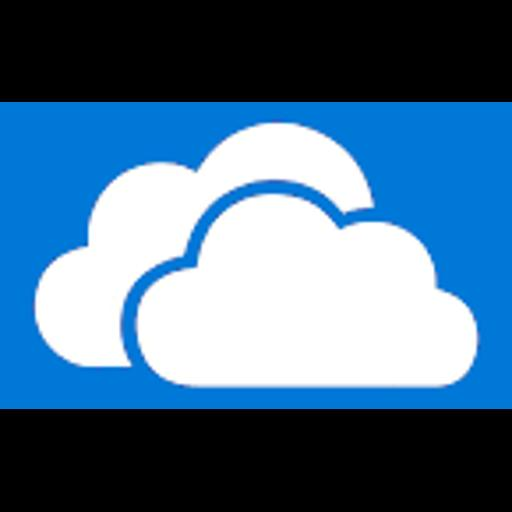Outlook: (0, 102, 512, 409)
